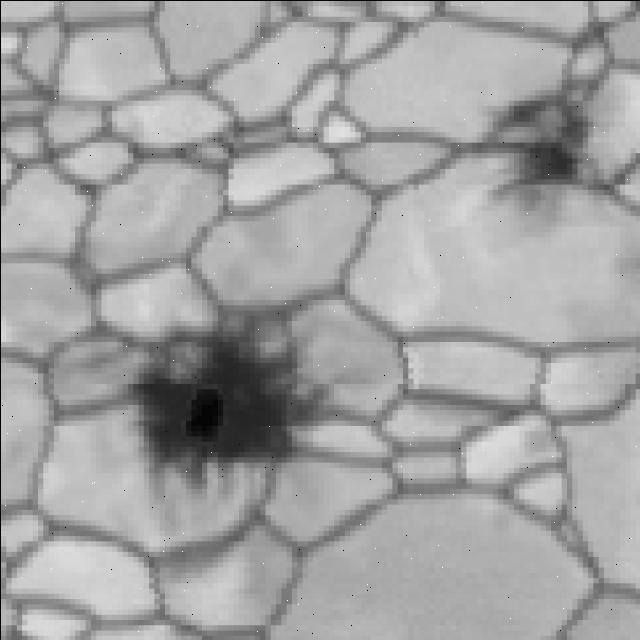good_void: (84, 273, 341, 517), (478, 77, 614, 232)
